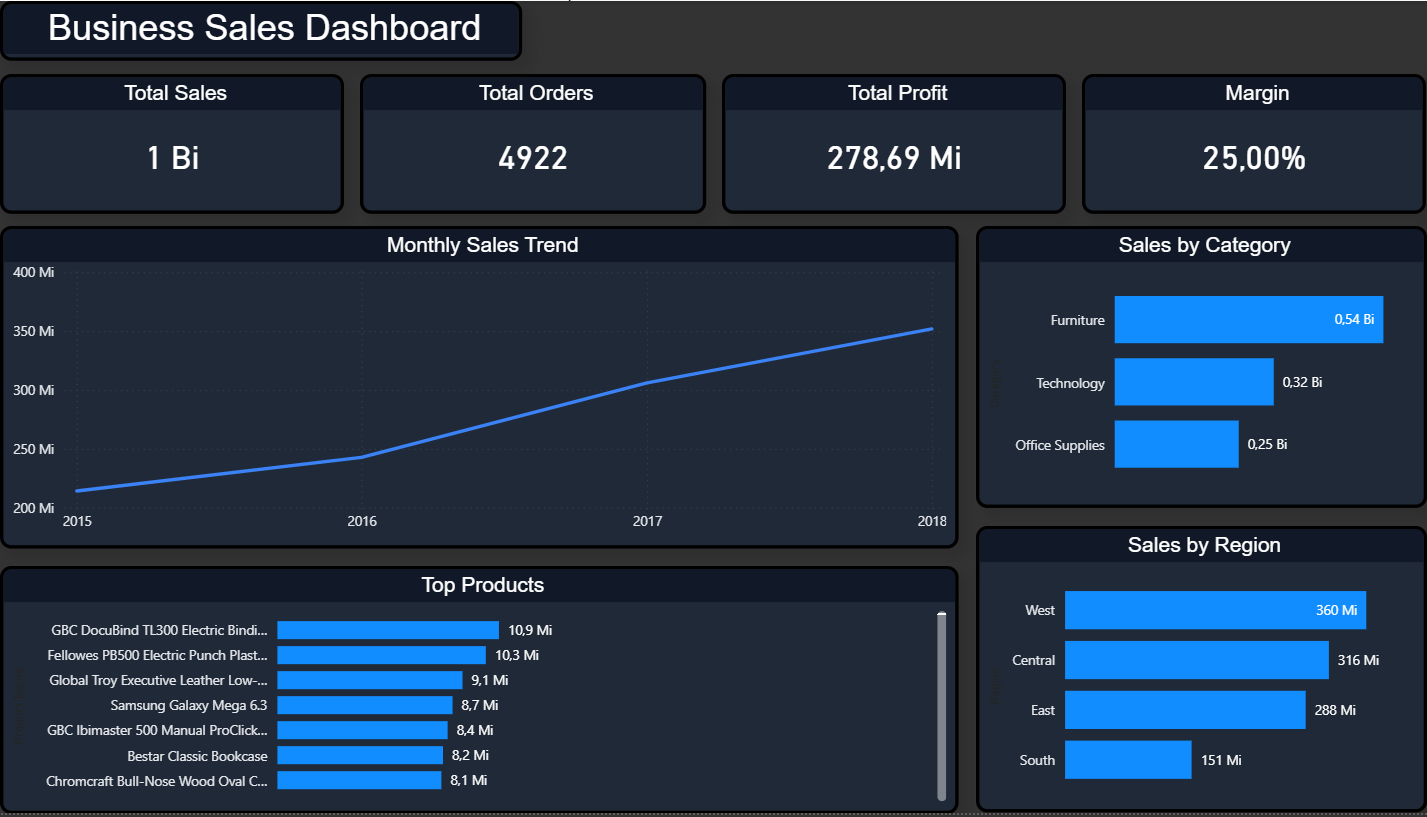

The page's visual inventory and layout, read from the dashboard file:
{"tool":"powerbi","page":{"name":"Página 1","canvas":[1280,720],"ordinal":0},"visuals":[{"type":"card","title":"Total Sales","fields":{"Values":["Sum(train.Sales)"]},"box":[0,30.2,306,159.1],"z":0},{"type":"card","title":"Total Orders","fields":{"Values":["train.Total Orders"]},"box":[319.8,30.2,306,159.1],"z":1000},{"type":"card","title":"Total Profit","fields":{"Values":["train.Total Profit"]},"box":[639.6,30.2,306,159.1],"z":2000},{"type":"card","title":"Margin","fields":{"Values":["train.Profit Margin"]},"box":[959.4,30.2,305.5,159.1],"z":3000},{"type":"lineChart","title":"Monthly Sales Trend","fields":{"Category":["train.Order Date.Variation.Hierarquia de datas.Ano","train.Order Date.Variation.Hierarquia de datas.Mês"],"Y":["train.Total Sales"]},"box":[0,199.8,850.2,285.7],"z":4000},{"type":"barChart","title":"Sales by Category","fields":{"Category":["train.Category"],"Y":["Sum(train.Sales)"]},"box":[865.3,199.8,399.6,249.7],"z":5000},{"type":"barChart","title":"Sales by Region","fields":{"Category":["train.Region"],"Y":["Sum(train.Sales)"]},"box":[865.3,465.8,399.6,254.4],"z":6000},{"type":"barChart","title":"Top Products","fields":{"Category":["train.Product Name"],"Y":["train.Total Sales"]},"box":[0,500.6,850.2,219.5],"z":7000}]}

Visuals, with their boxes in screenshot pixels (x1, y1, x2, y2), scaled from the page's 1280x720 canvas onto the 1427x817 screenshot:
"Total Sales" card: (x1=0, y1=34, x2=341, y2=215)
"Total Orders" card: (x1=357, y1=34, x2=698, y2=215)
"Total Profit" card: (x1=713, y1=34, x2=1054, y2=215)
"Margin" card: (x1=1070, y1=34, x2=1410, y2=215)
"Monthly Sales Trend" lineChart: (x1=0, y1=227, x2=948, y2=551)
"Sales by Category" barChart: (x1=965, y1=227, x2=1410, y2=510)
"Sales by Region" barChart: (x1=965, y1=529, x2=1410, y2=816)
"Top Products" barChart: (x1=0, y1=568, x2=948, y2=816)
